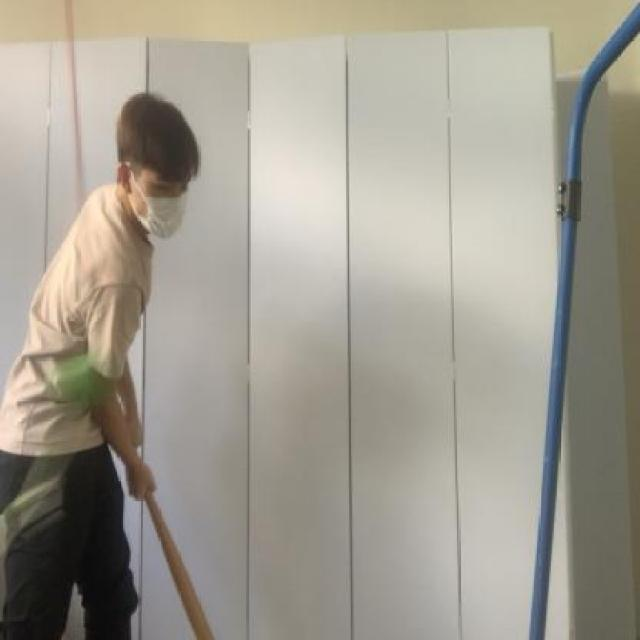baseball: (35, 344, 122, 418)
